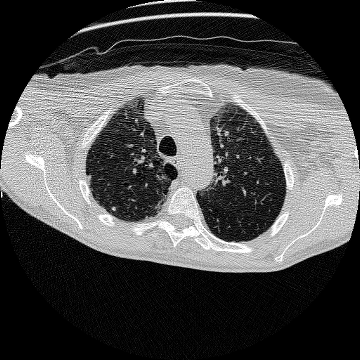nodule: (112, 207, 116, 211)
